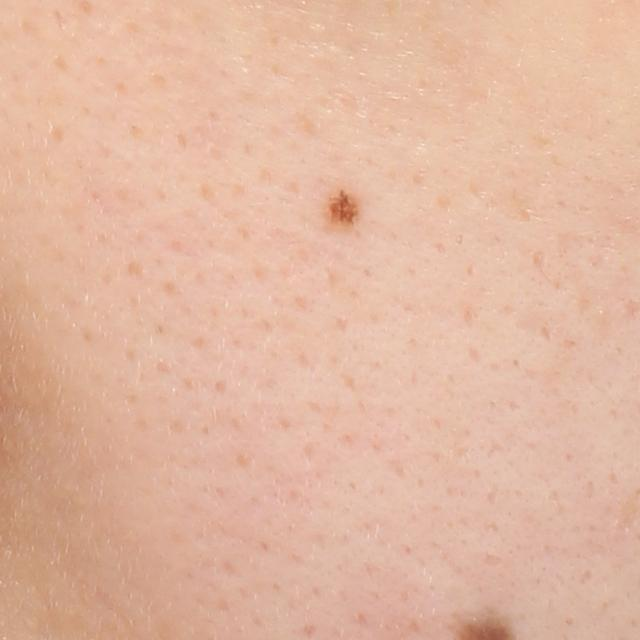nevus: (323, 184, 367, 234)
